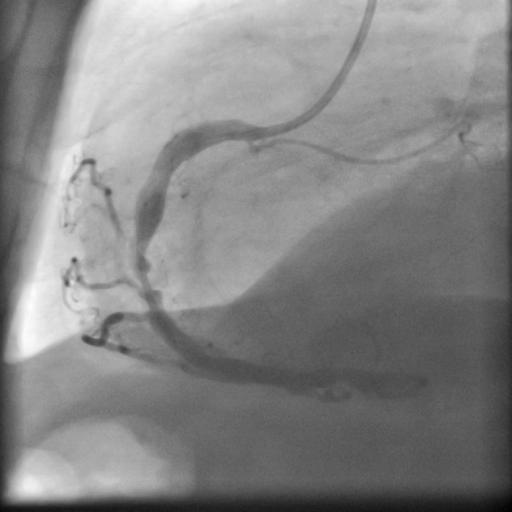Stenosis: (131, 254, 162, 302)
